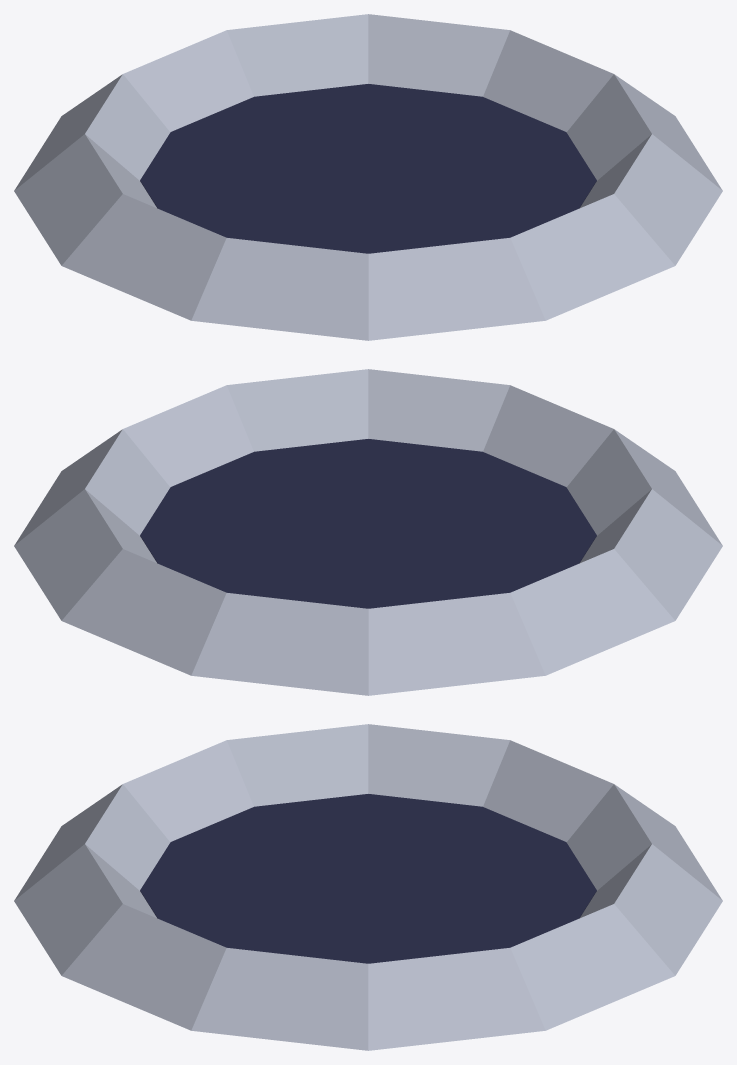
The model's file is crater-rim.glb.
3 renders of one model, top to bottom at view 1: azimuth 30°, elevation 25°; view 2: azimuth 150°, elevation 25°; view 3: azimuth 270°, elevation 25°, orthographic.
Parts seen in each view (by area): view 1: space-crater-rim; view 2: space-crater-rim; view 3: space-crater-rim.
Boxes of the visible parts, x1,y1,x2,y2 form: space-crater-rim: (14,14,722,340); space-crater-rim: (14,369,722,695); space-crater-rim: (14,724,722,1050).
Size of the model in its own units: 1.8 by 0.16 by 1.8.
